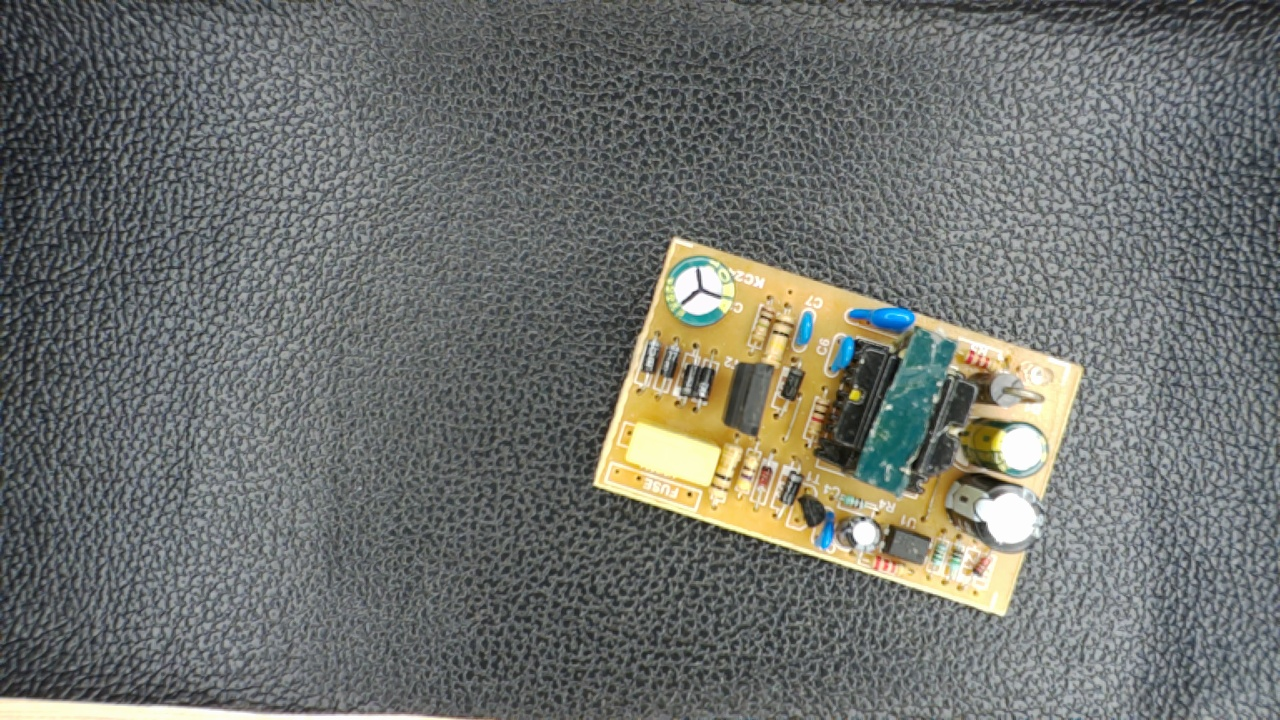hv_capacitor: (662, 254, 743, 327)
mov: (845, 302, 924, 336)
optocoupler: (876, 522, 935, 566)
